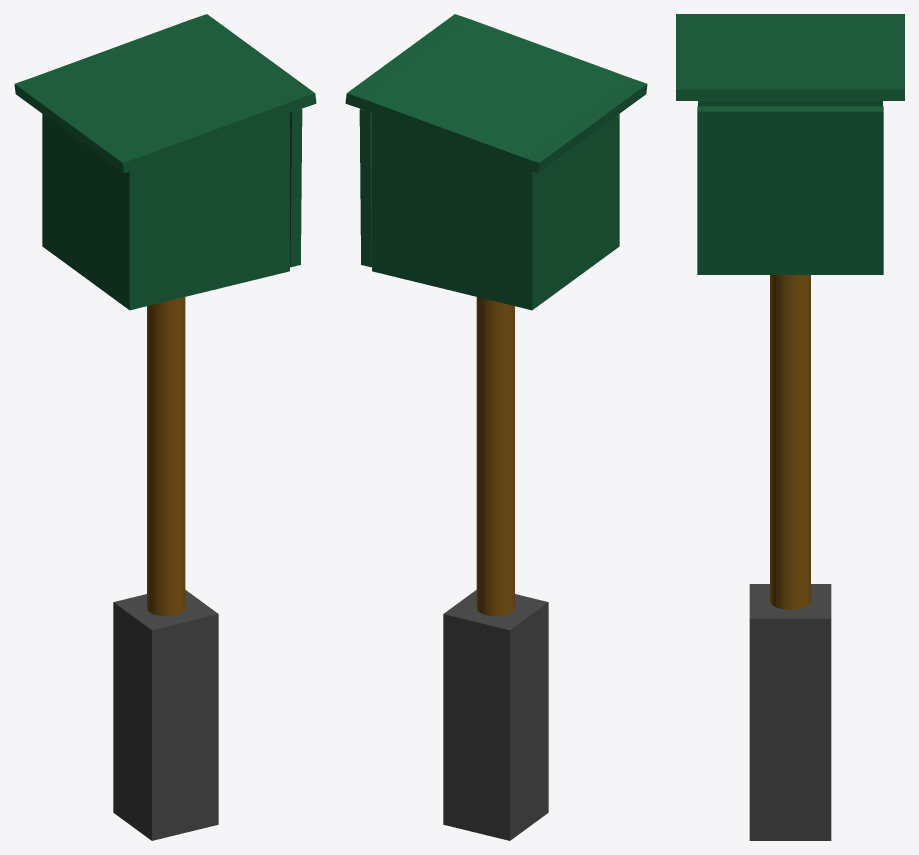
The model's file is Modell_Stempelstelle_mitAnimationFussErweitert.fbx.
3 renders of one model, left to right at view 1: azimuth 30°, elevation 25°; view 2: azimuth 150°, elevation 25°; view 3: azimuth 270°, elevation 25°, orthographic. The views are drawn at different scales.
Parts seen in each view (by area): view 1: Stempelstelle, Fuss, Stiel, Klappe; view 2: Stempelstelle, Fuss, Stiel, Klappe; view 3: Klappe, Stempelstelle, Fuss, Stiel.
Part boxes in pixels (x1,y1,x2,y2): Stempelstelle: [14, 14, 316, 310]; Fuss: [113, 590, 218, 840]; Stiel: [147, 297, 185, 616]; Klappe: [290, 109, 302, 267]; Stempelstelle: [345, 14, 647, 310]; Fuss: [443, 590, 548, 840]; Stiel: [476, 297, 514, 616]; Klappe: [359, 109, 371, 267]; Klappe: [697, 106, 883, 274]; Stempelstelle: [676, 14, 904, 106]; Fuss: [749, 584, 831, 840]; Stiel: [770, 275, 810, 609].
Size of the model in its own units: 58.07 by 212 by 56.21.
